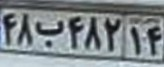character: (34, 13, 65, 49), (84, 12, 103, 54), (142, 22, 164, 58), (103, 14, 122, 55), (65, 12, 84, 51), (17, 10, 34, 50), (1, 10, 17, 47), (127, 23, 142, 59)
